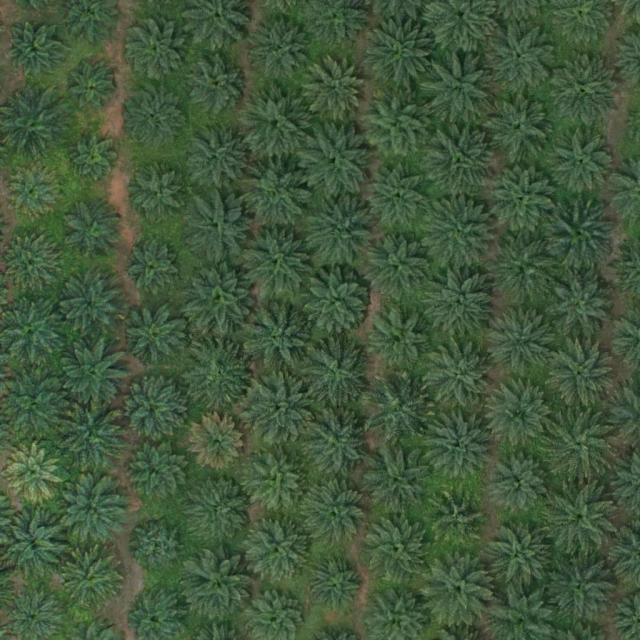Healthy: (425, 51, 496, 122), (364, 19, 435, 90), (185, 264, 256, 335), (360, 90, 431, 161), (426, 126, 497, 197), (426, 200, 497, 271), (486, 380, 557, 451), (181, 52, 252, 122), (59, 339, 129, 410), (182, 122, 252, 193), (185, 193, 256, 263), (186, 340, 256, 411), (241, 161, 311, 232), (242, 227, 312, 298), (243, 306, 313, 377), (303, 126, 373, 197), (307, 196, 377, 267), (303, 266, 373, 337), (365, 230, 435, 301), (363, 374, 433, 445), (489, 166, 559, 237), (488, 235, 558, 306), (489, 306, 559, 377), (547, 269, 617, 340), (546, 342, 616, 413), (545, 485, 616, 555), (545, 550, 615, 621), (484, 519, 555, 589), (361, 515, 431, 586), (302, 408, 373, 478), (57, 400, 128, 470), (57, 478, 127, 549), (550, 57, 620, 127), (489, 24, 559, 94), (239, 89, 309, 159), (245, 375, 315, 445), (300, 337, 370, 407), (424, 270, 494, 340), (428, 344, 498, 414), (486, 92, 556, 162), (547, 202, 617, 272), (543, 410, 613, 480), (424, 554, 494, 624), (424, 408, 494, 478), (364, 445, 434, 515), (187, 555, 257, 625), (305, 57, 368, 120), (60, 275, 123, 338), (122, 305, 185, 368), (122, 377, 185, 440), (370, 308, 433, 371), (127, 440, 190, 503), (251, 18, 313, 81), (64, 197, 126, 260), (127, 166, 189, 229), (367, 169, 430, 231), (553, 133, 615, 196), (304, 479, 366, 542), (248, 449, 310, 512), (247, 519, 310, 581), (191, 478, 253, 541), (125, 22, 187, 84), (125, 87, 187, 149), (61, 550, 123, 612), (6, 168, 61, 223), (5, 233, 60, 288), (69, 130, 124, 185), (125, 240, 180, 295), (431, 492, 486, 547), (493, 456, 548, 511), (132, 520, 187, 575), (7, 23, 61, 78), (307, 557, 361, 612)
Small: (69, 64, 116, 112)
Yellow: (190, 416, 245, 471), (7, 444, 61, 499)
